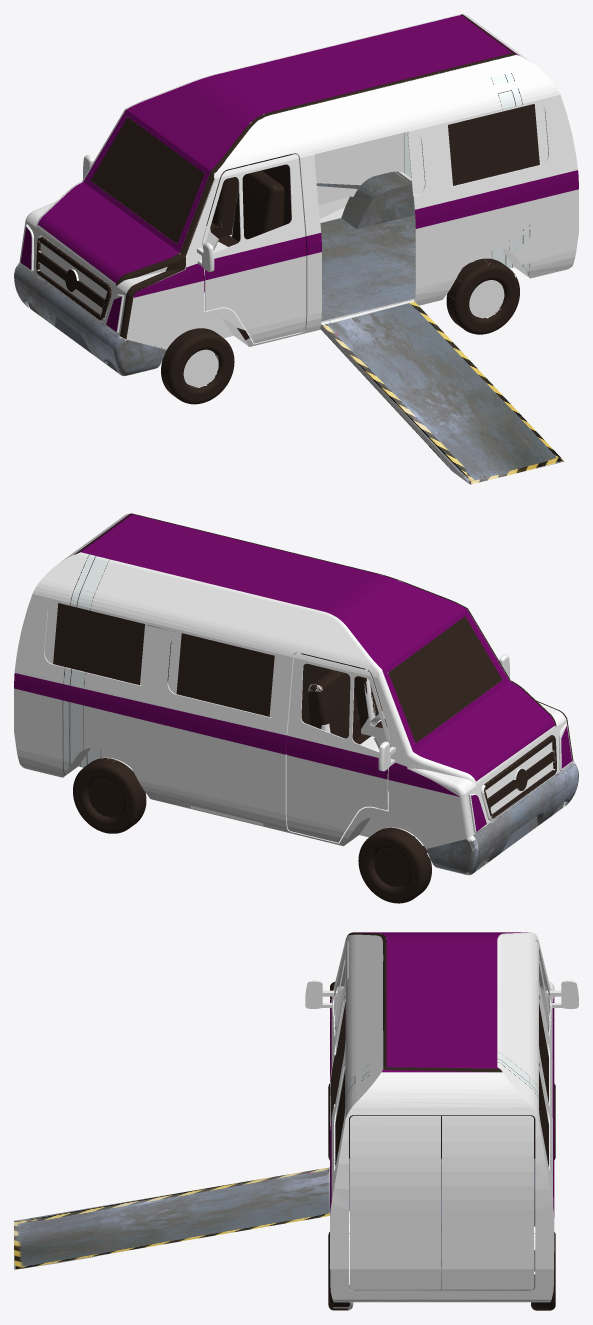
Rendered from vanwithramp2.0.fbx.
3 views of the same model, one above another, from view 1: azimuth 30°, elevation 25°; view 2: azimuth 150°, elevation 25°; view 3: azimuth 270°, elevation 25° (orthographic). The views are drawn at different scales.
Parts seen in each view (by area): view 1: Force 3050 Vanwithramp; view 2: Force 3050 Vanwithramp; view 3: Force 3050 Vanwithramp.
Boxes of the visible parts, x1,y1,x2,y2 form: Force 3050 Vanwithramp: (14,14,578,484); Force 3050 Vanwithramp: (14,513,578,903); Force 3050 Vanwithramp: (14,932,578,1310).
Size of the model in its own units: 493 by 256 by 491.
1 material, 1 textured.
